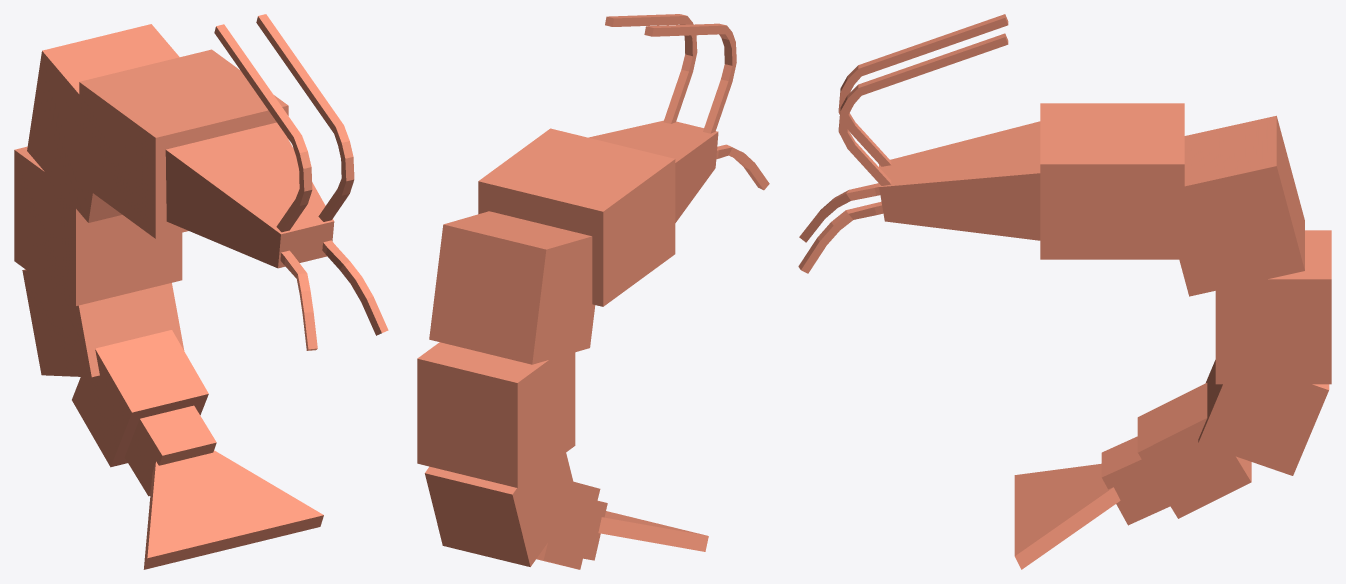
Rendered from Udang.fbx.
The picture shows the model from 3 angles, left to right: view 1: azimuth 30°, elevation 25°; view 2: azimuth 150°, elevation 25°; view 3: azimuth 270°, elevation 25°; orthographic projection. The views are drawn at different scales.
Visible parts, largest first — view 1: Cube.042; view 2: Cube.042; view 3: Cube.042.
Part boxes in pixels (x1,y1,x2,y2): Cube.042: (14,14,388,569); Cube.042: (417,14,769,569); Cube.042: (798,14,1331,569).
Bounding box in the file's own units: 12.7 × 36.72 × 35.22.
